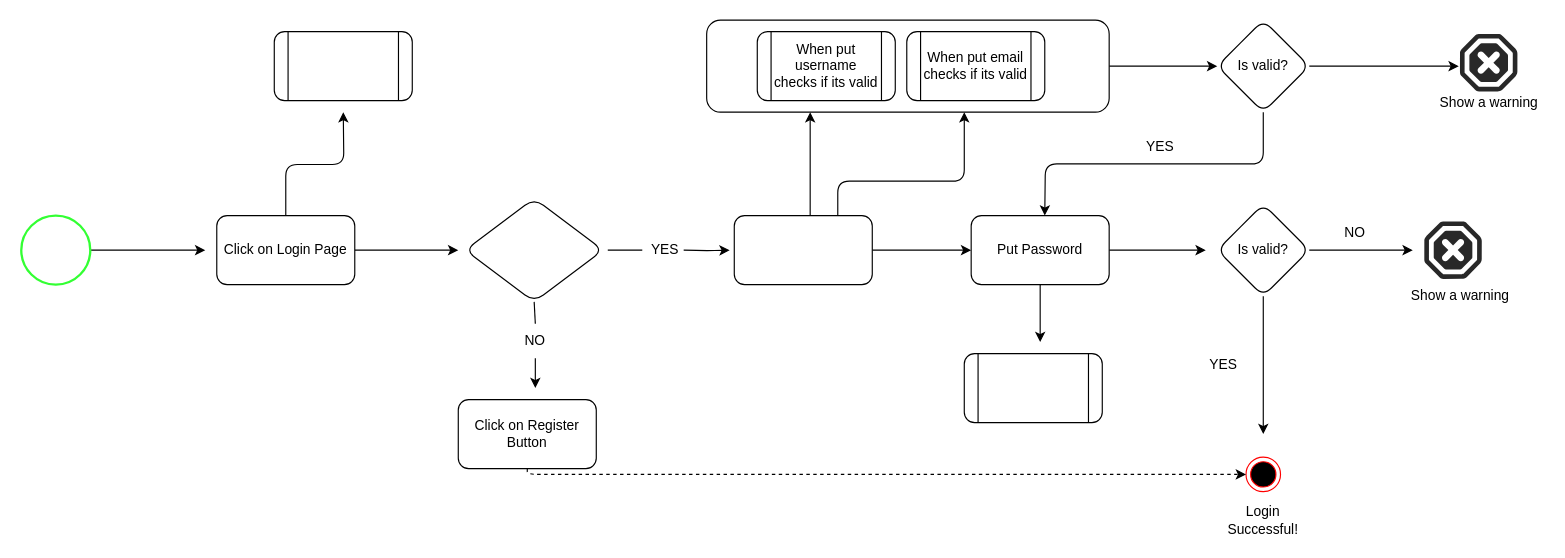
The diagram is 1565 pixels wide and 558 high, and some of its shapes have lost their labels. Here are the shapes that lost their labels. From the top down, the centre of each, then its label:
At pixel 342 65: "Open Login Modal".
At pixel 533 249: "Has login credentials?".
At pixel 802 249: "Put Login".
At pixel 1032 387: "Check if its correspondent to the login info".
